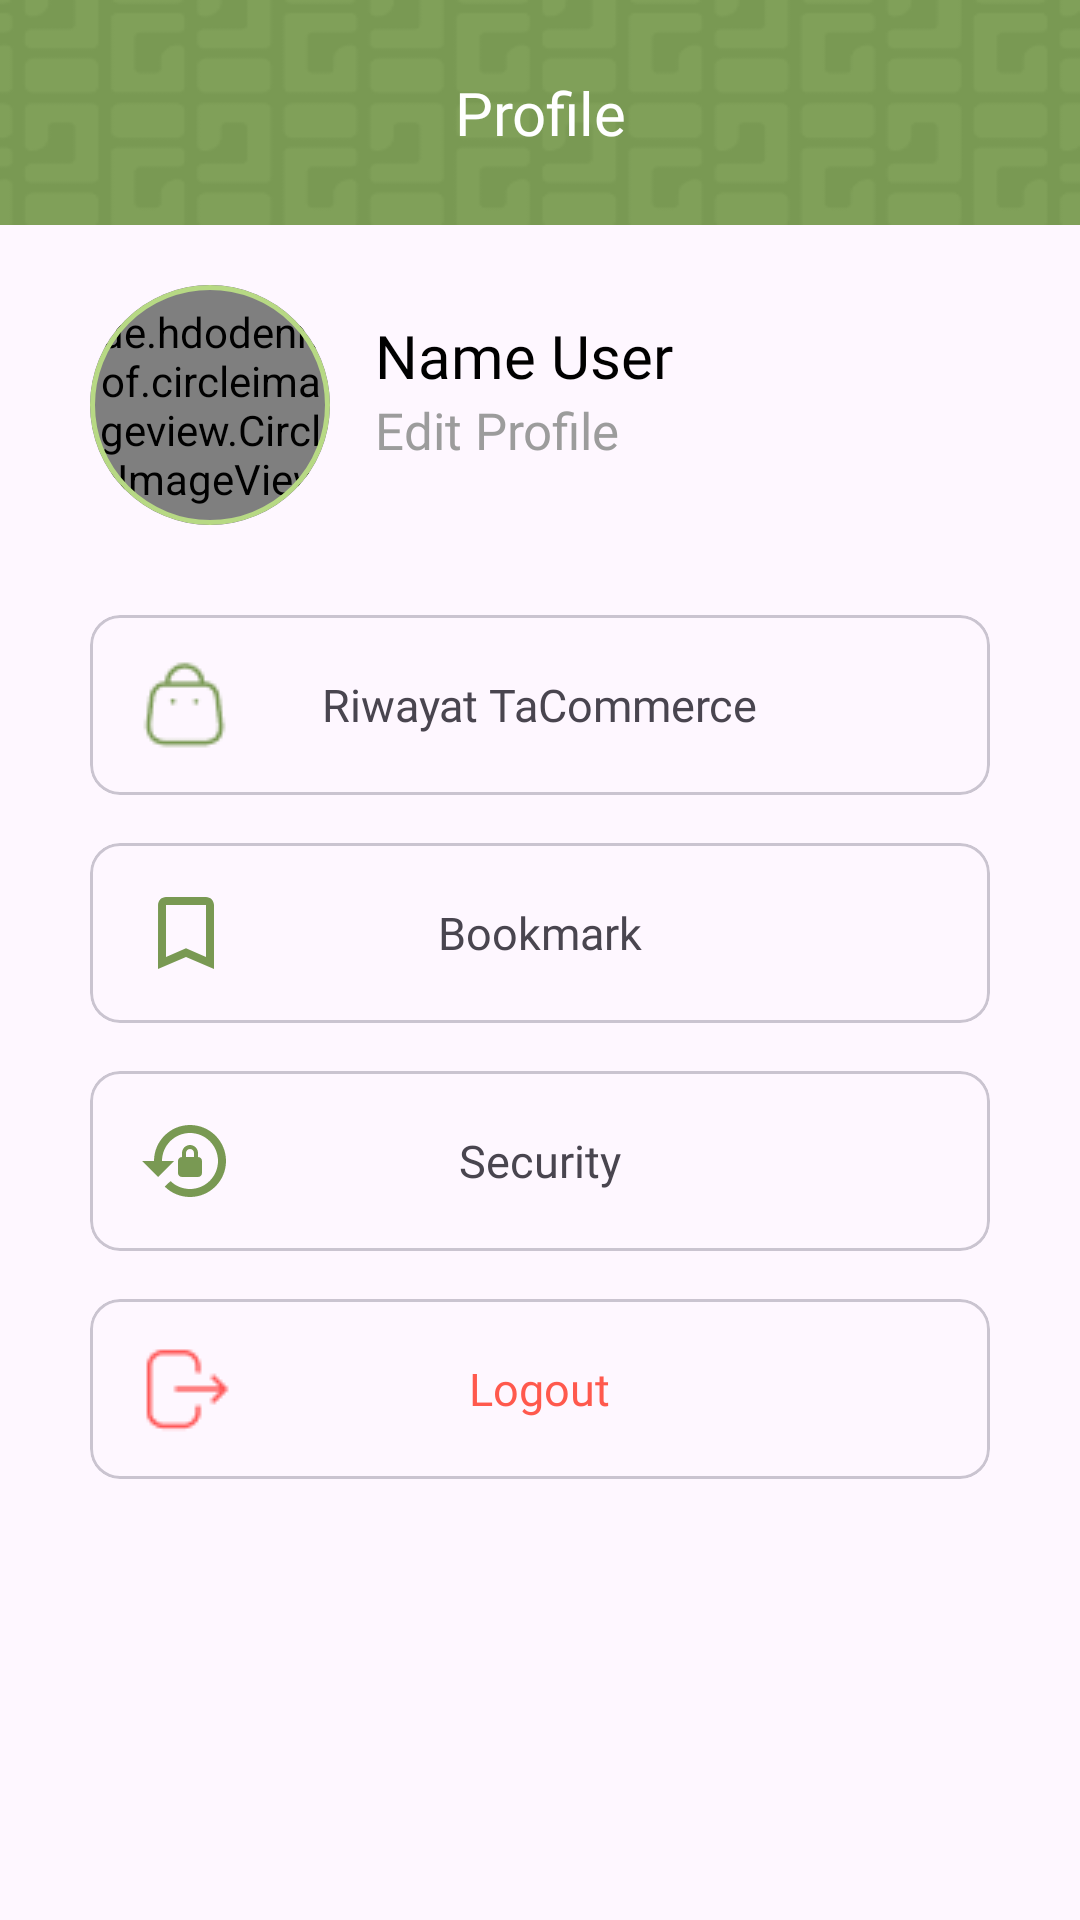

Screen size 1080w x 1920h. Icon name, then its box in pixels as [left=x1, top=y1, right=x2, bottom=y2]:
bookmark: [left=158, top=897, right=214, bottom=969]
lock: [left=142, top=1125, right=226, bottom=1197]
shop: [left=144, top=662, right=225, bottom=747]
